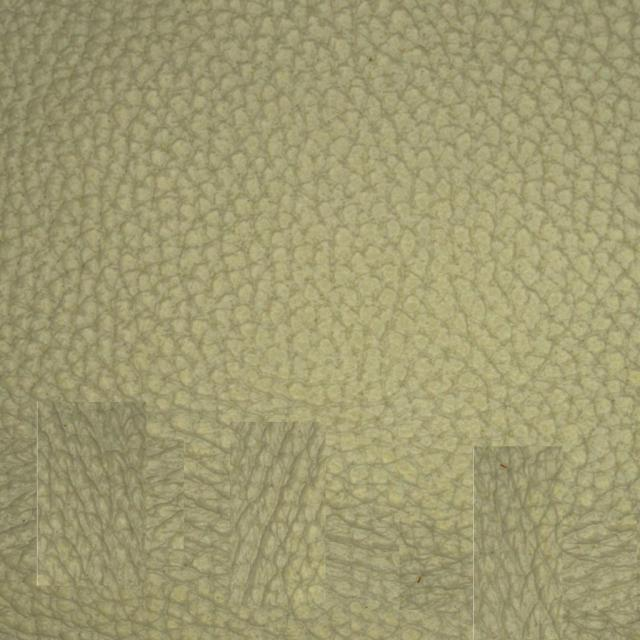Healed Injury: (27, 358, 175, 596), (448, 407, 602, 612), (214, 390, 346, 596)
